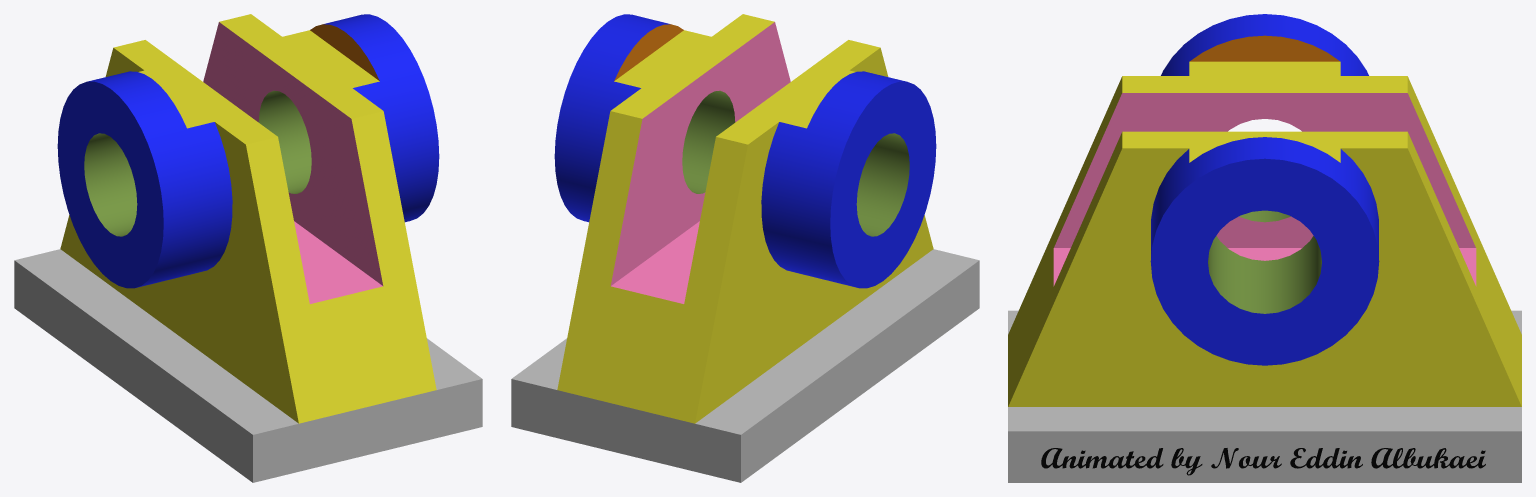
3 views of the same model, side by side, from view 1: azimuth 30°, elevation 25°; view 2: azimuth 150°, elevation 25°; view 3: azimuth 270°, elevation 25° (orthographic). The views are drawn at different scales.
Parts seen in each view (by area): view 1: Solid4; view 2: Solid4; view 3: Solid4.
Part boxes in pixels (left/top/right/bottom): Solid4: left=14, top=14, right=482, bottom=482; Solid4: left=511, top=14, right=979, bottom=482; Solid4: left=1008, top=14, right=1521, bottom=482.
Size of the model in its own units: 0.06 by 0.065 by 0.09.
